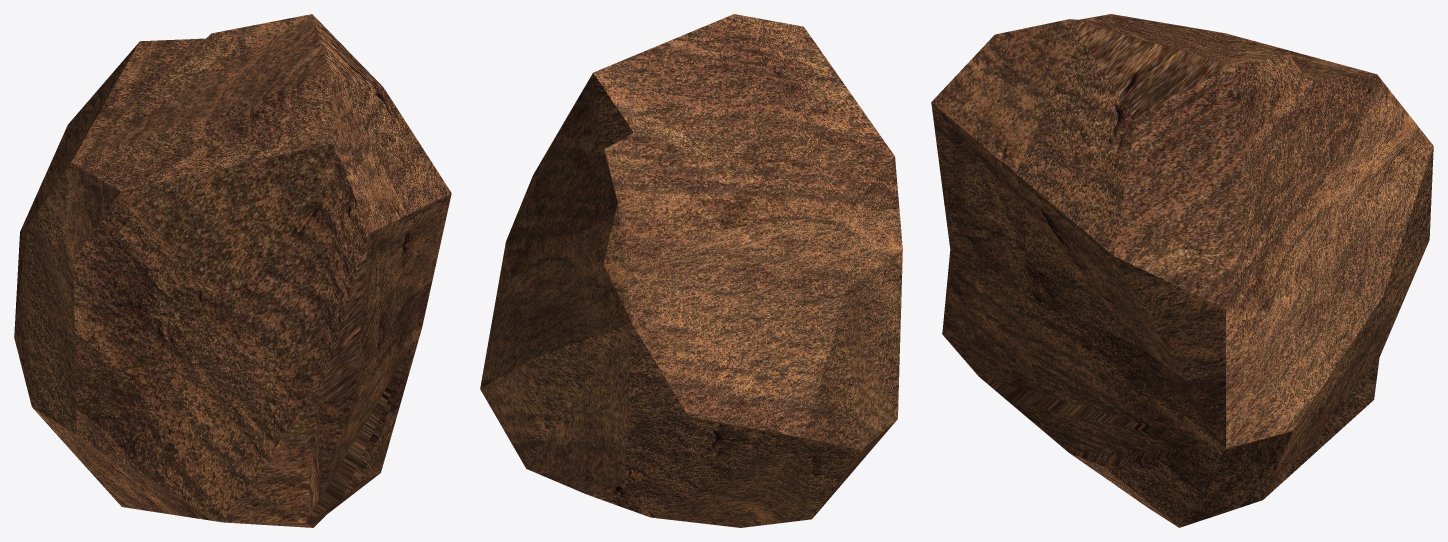
File: rock3.obj
3 views of the same model, side by side, from view 1: azimuth 30°, elevation 25°; view 2: azimuth 150°, elevation 25°; view 3: azimuth 270°, elevation 25° (orthographic). The views are drawn at different scales.
Visible parts, largest first — view 1: Sphere.002; view 2: Sphere.002; view 3: Sphere.002.
Boxes of the visible parts, x1=… form: Sphere.002: x1=14, y1=14, x2=451, y2=527; Sphere.002: x1=480, y1=14, x2=902, y2=527; Sphere.002: x1=931, y1=14, x2=1433, y2=527.
Bounding box in the file's own units: 2.07 × 2.49 × 2.37.
1 material, 1 textured.
